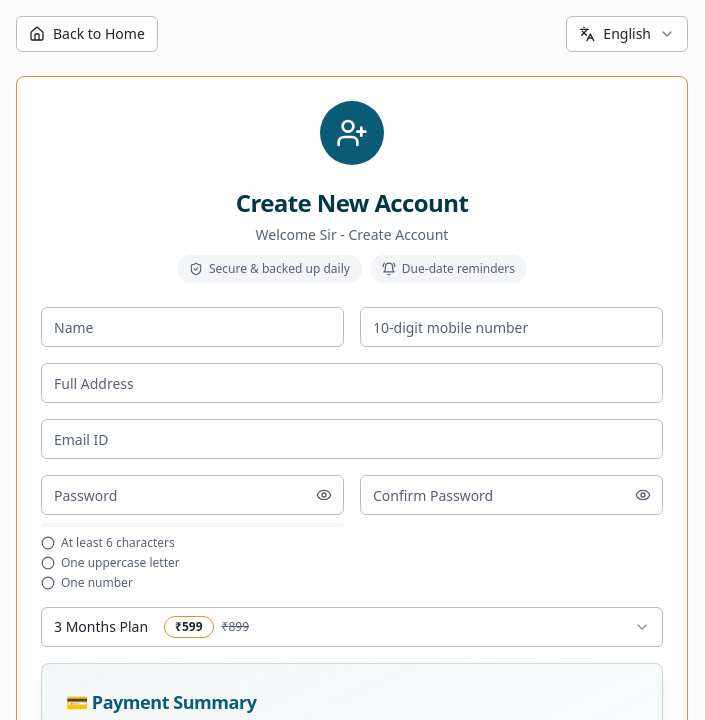
Test case: signup page — reading ?plan= › the user can still change the preselected plan by hand
Click the dropdown: (101, 626) [41, 607, 663, 647]
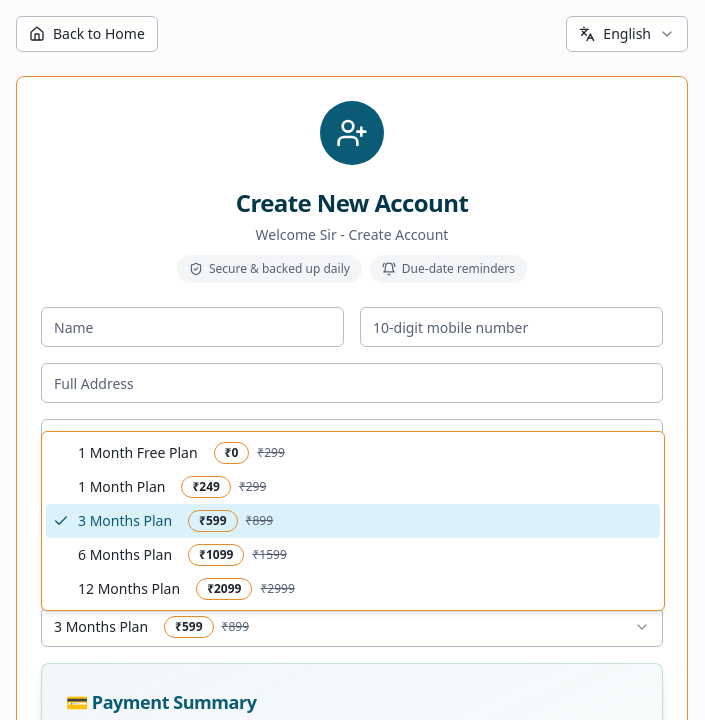
Click the option "12 Months Plan ₹2099 ₹2999": (129, 588) [78, 578, 295, 600]
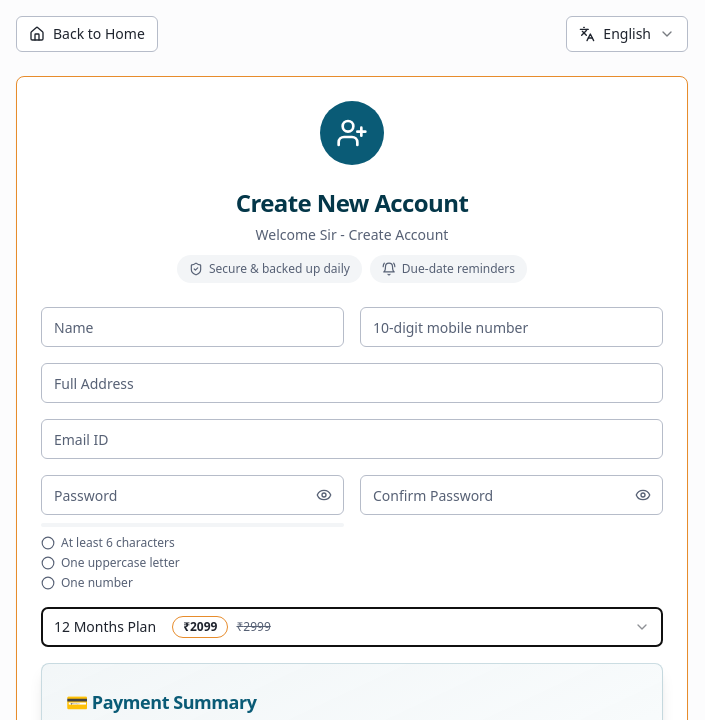
Result: the dropdown shows "12 Months Plan" at [41, 607, 663, 647]
